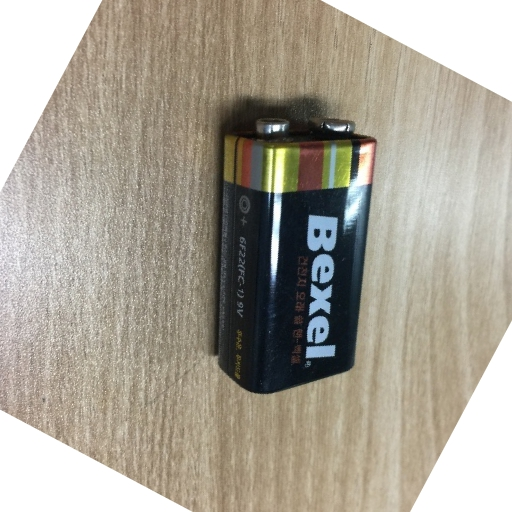Battery_3: (199, 92, 391, 410)
